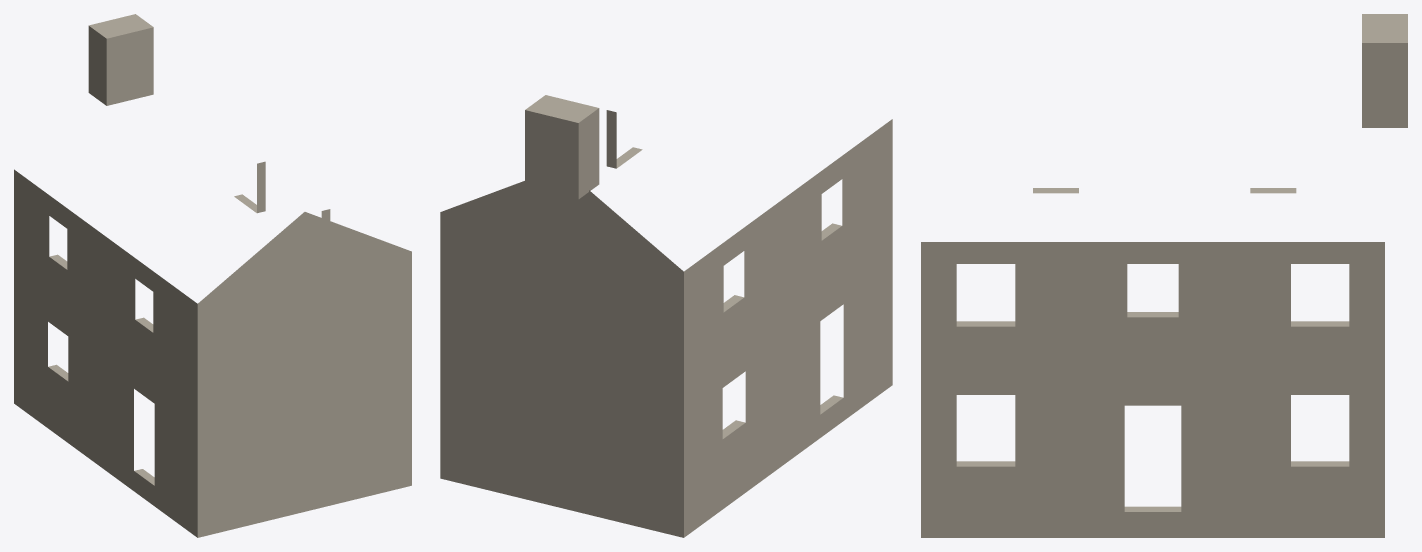
File: SM_Bld_048_Render.glb
The picture shows the model from 3 angles, left to right: view 1: azimuth 30°, elevation 25°; view 2: azimuth 150°, elevation 25°; view 3: azimuth 270°, elevation 25°; orthographic projection. The views are drawn at different scales.
Parts seen in each view (by area): view 1: SM_Bld_048_Render; view 2: SM_Bld_048_Render; view 3: SM_Bld_048_Render.
Boxes of the visible parts, x1,y1,x2,y2 form: SM_Bld_048_Render: (14,14,411,537); SM_Bld_048_Render: (440,95,892,537); SM_Bld_048_Render: (921,14,1407,537).
Size of the model in its own units: 5.46 by 8.54 by 8.5.
